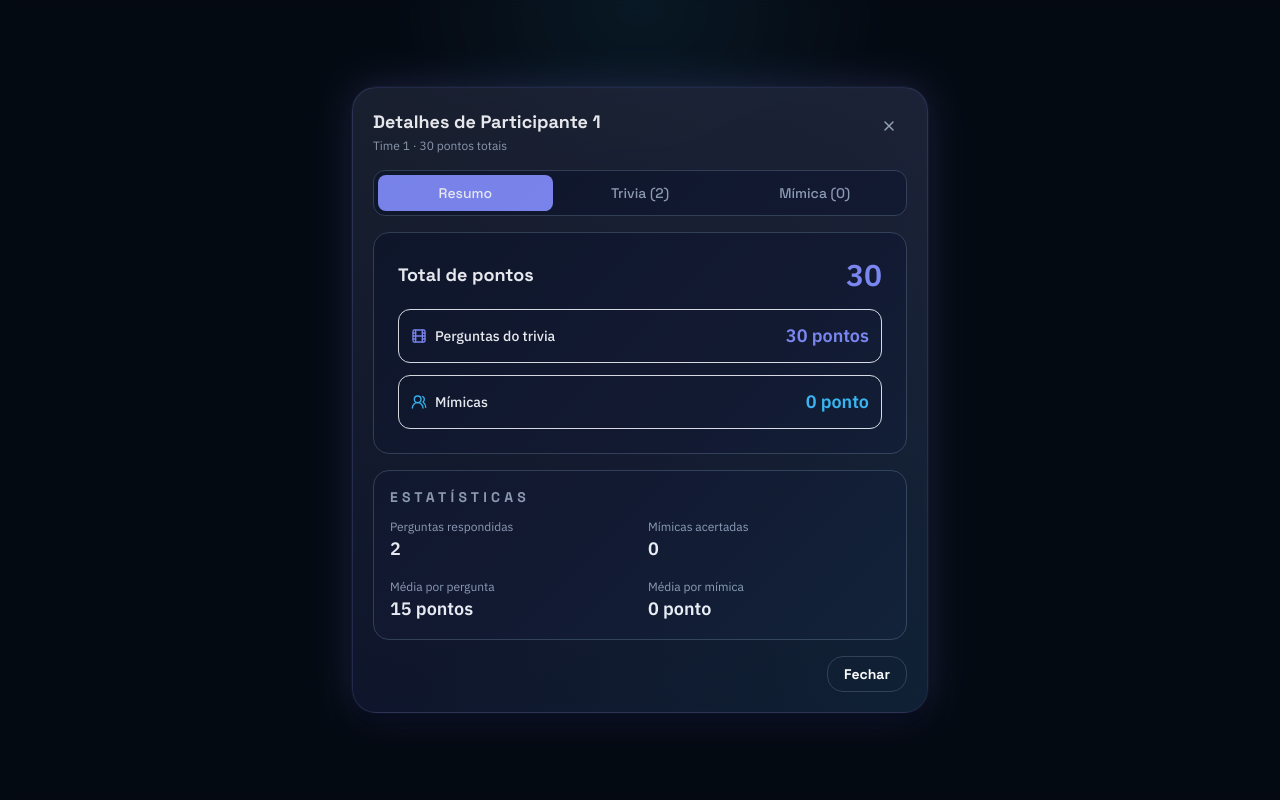
Test: ScoreDetailView › deve mostrar mensagem quando não há mímicas acertadas
What coordinates should you click on to do the following:
click the button "Mímica (0)"
I would click on:
 (815, 193)
Its box is [727, 175, 902, 211].
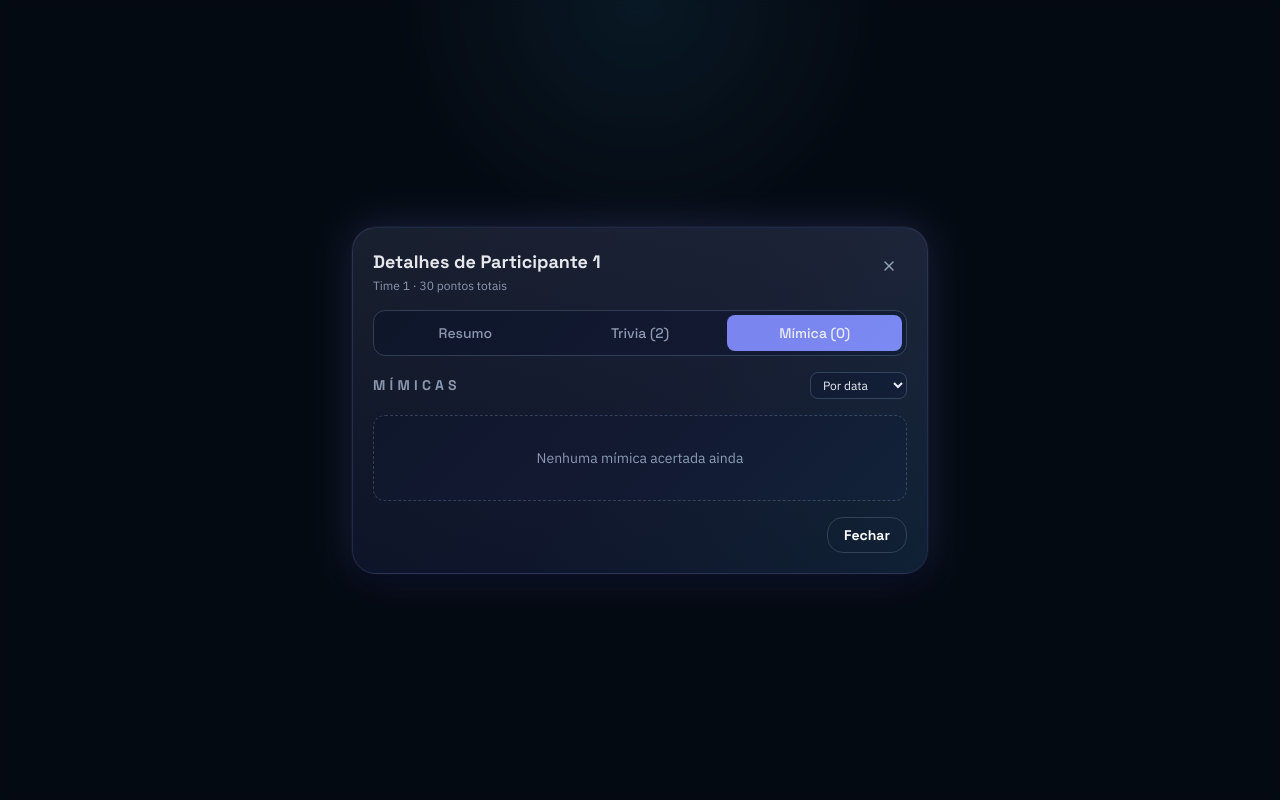
Check: the text "Nenhuma mímica acertada ainda" is shown, box [537, 448, 743, 466]
